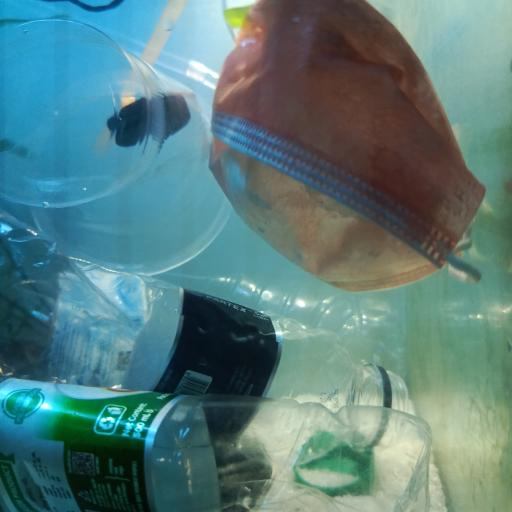bottle_cap: (292, 430, 375, 494), (111, 92, 189, 146)
mask: (209, 0, 487, 296)
plastic_bottle: (0, 207, 409, 451), (1, 377, 434, 512), (2, 262, 406, 387)
plastic_cup: (1, 17, 231, 275)
plastic_straw: (124, 0, 196, 104)
